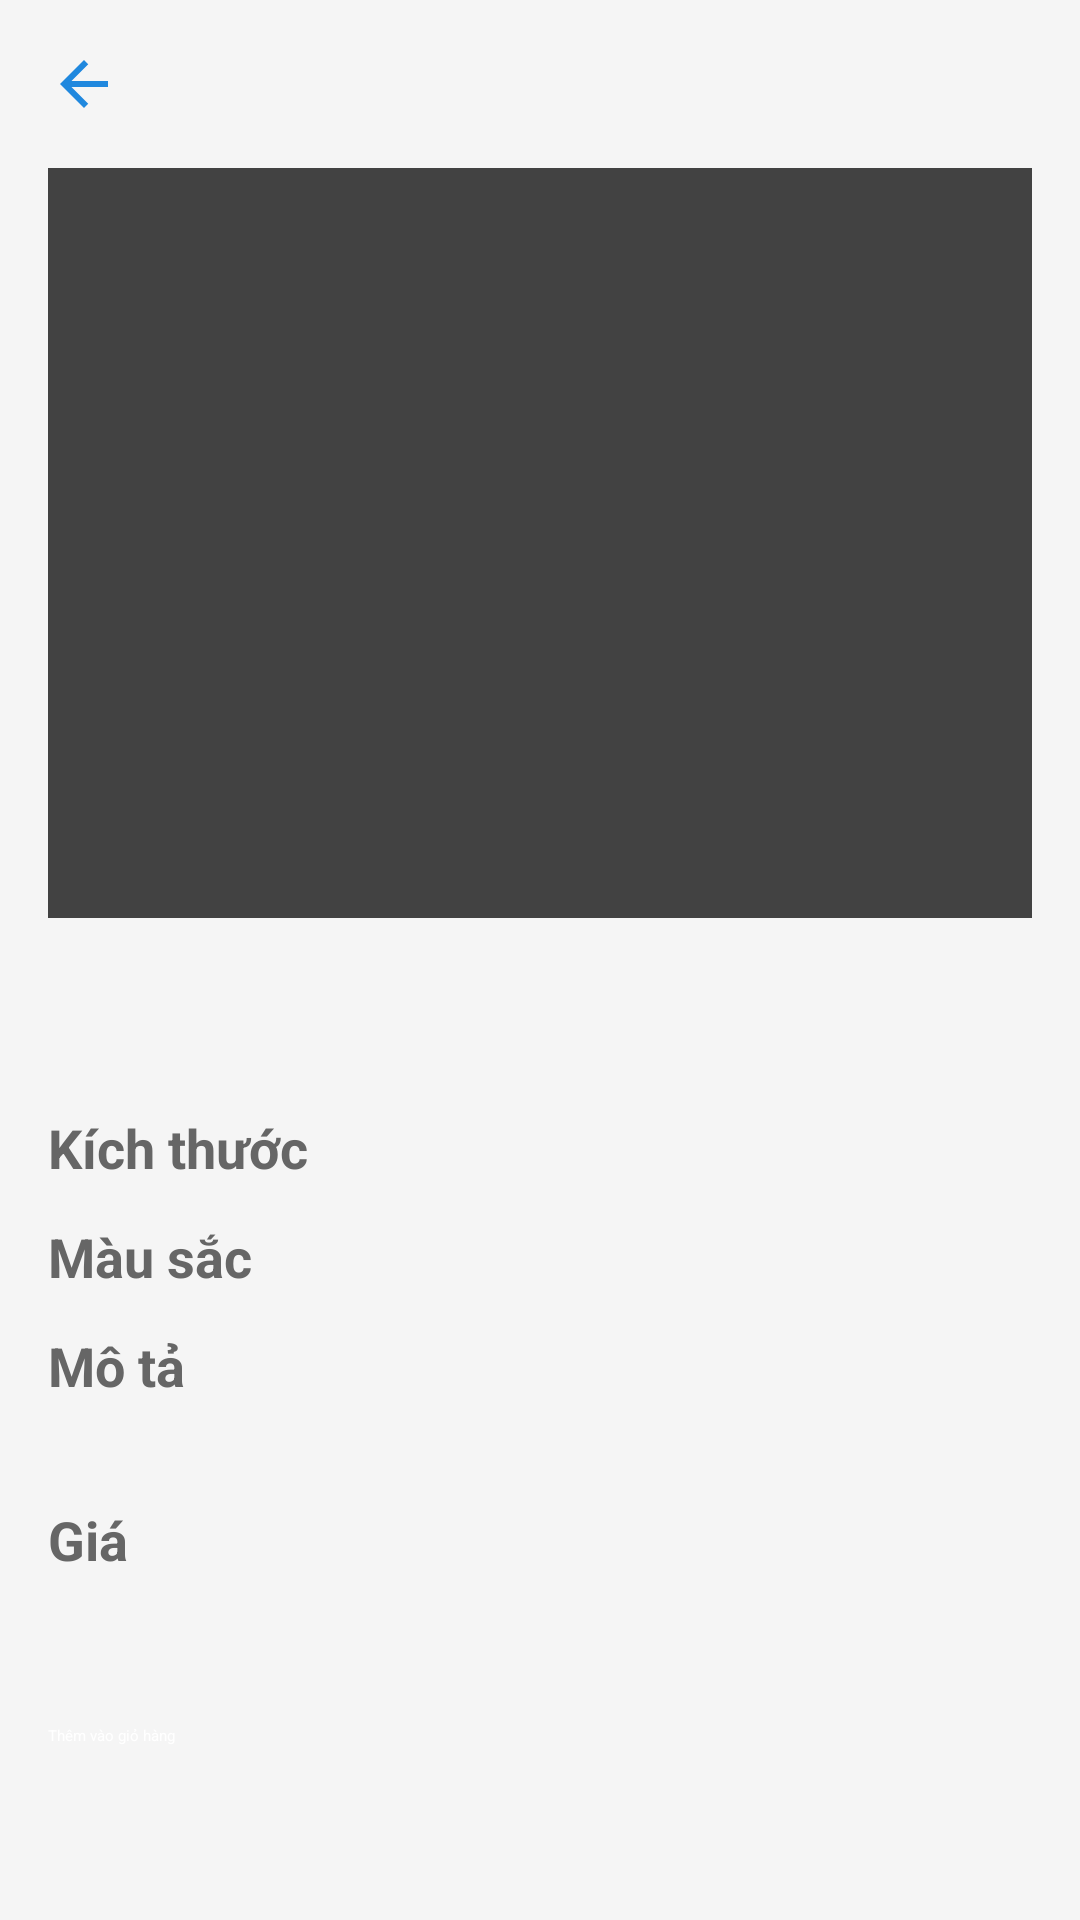

Icon bounding boxes for this 1080 × 1920 phone screenshot, format (x1, y1, x2, y2):
Quay lại: (60, 60, 108, 108)
